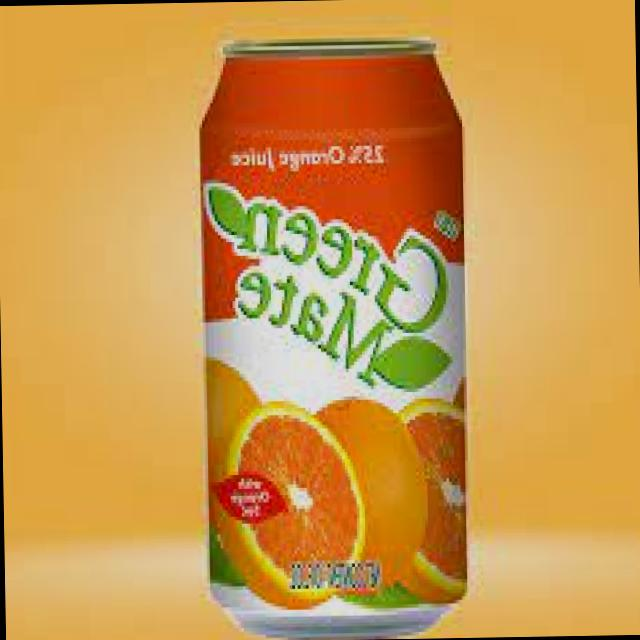can: (197, 32, 476, 640)
